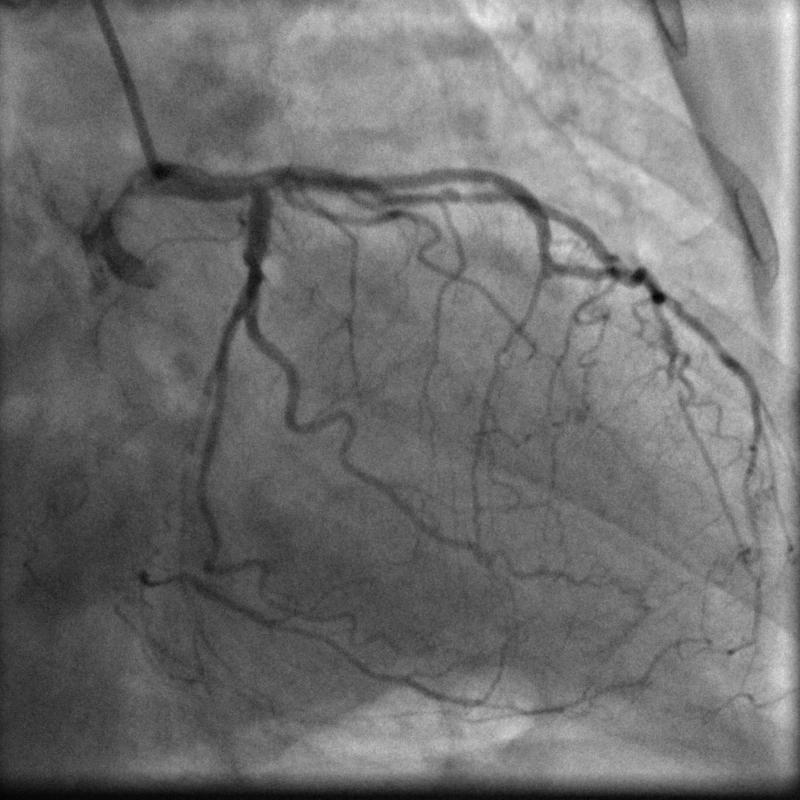Stenosis: (419, 180, 496, 209)
